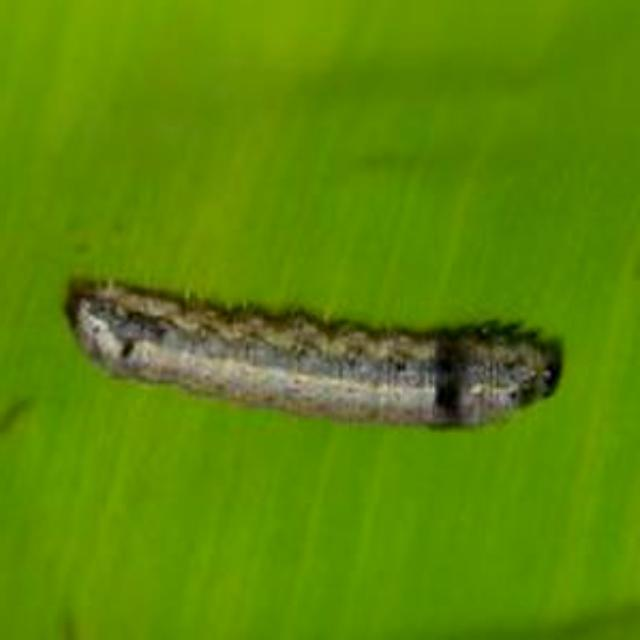Tobacco cutworm: (32, 196, 616, 516)
